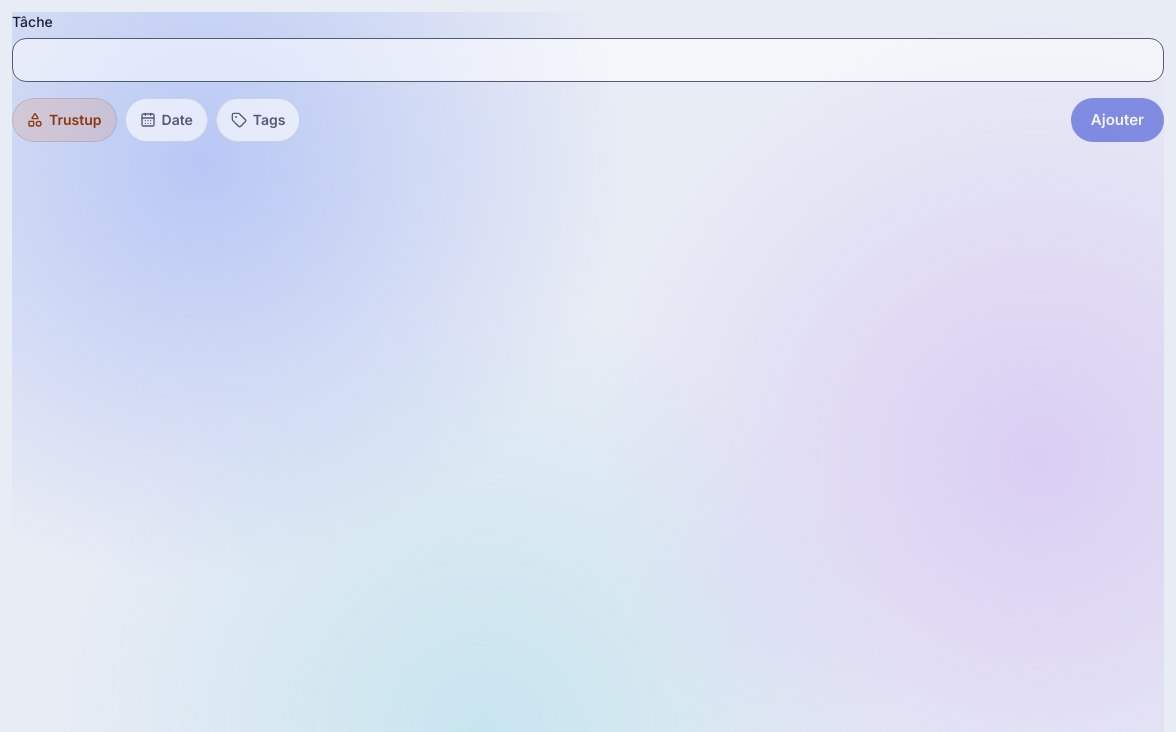
Test: ajout rapide : formulaire tâche › panne (appel rejeté) : saisie conservée, message générique
Type "Relancer le devis" into the field labelled "Tâche" at (588, 60), box [12,38,1164,82]
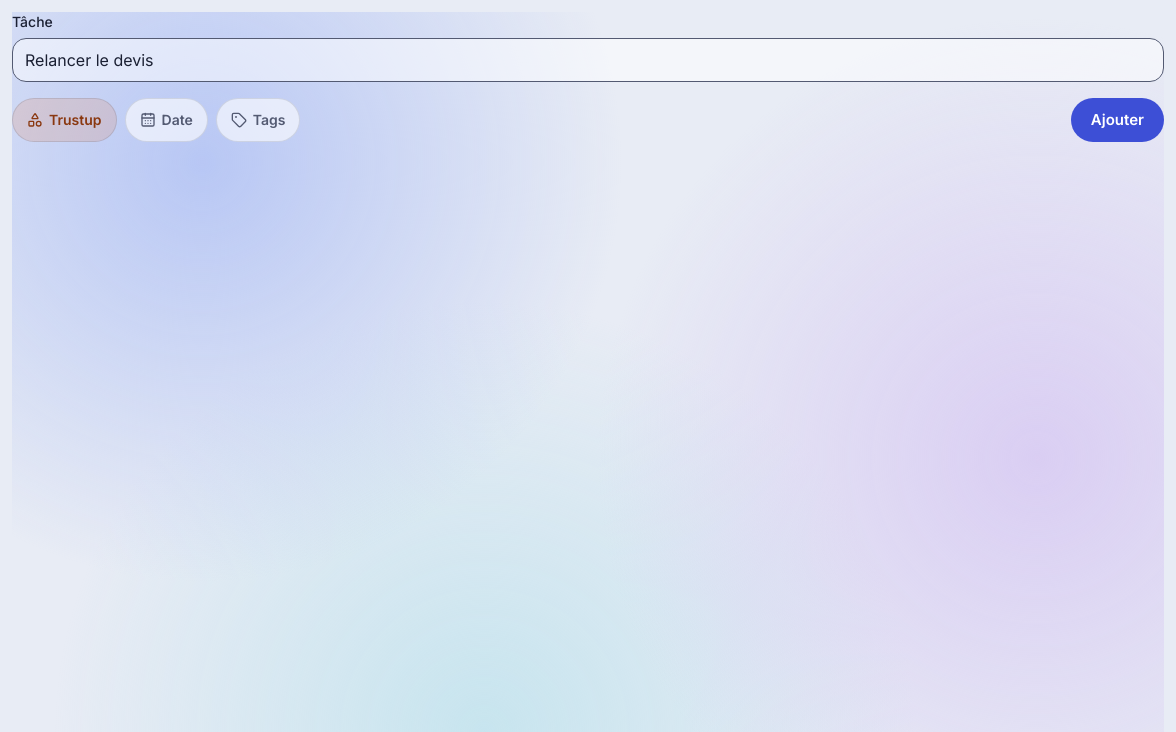
Click the button "Ajouter" at (1117, 120), box [1071,98,1164,142]
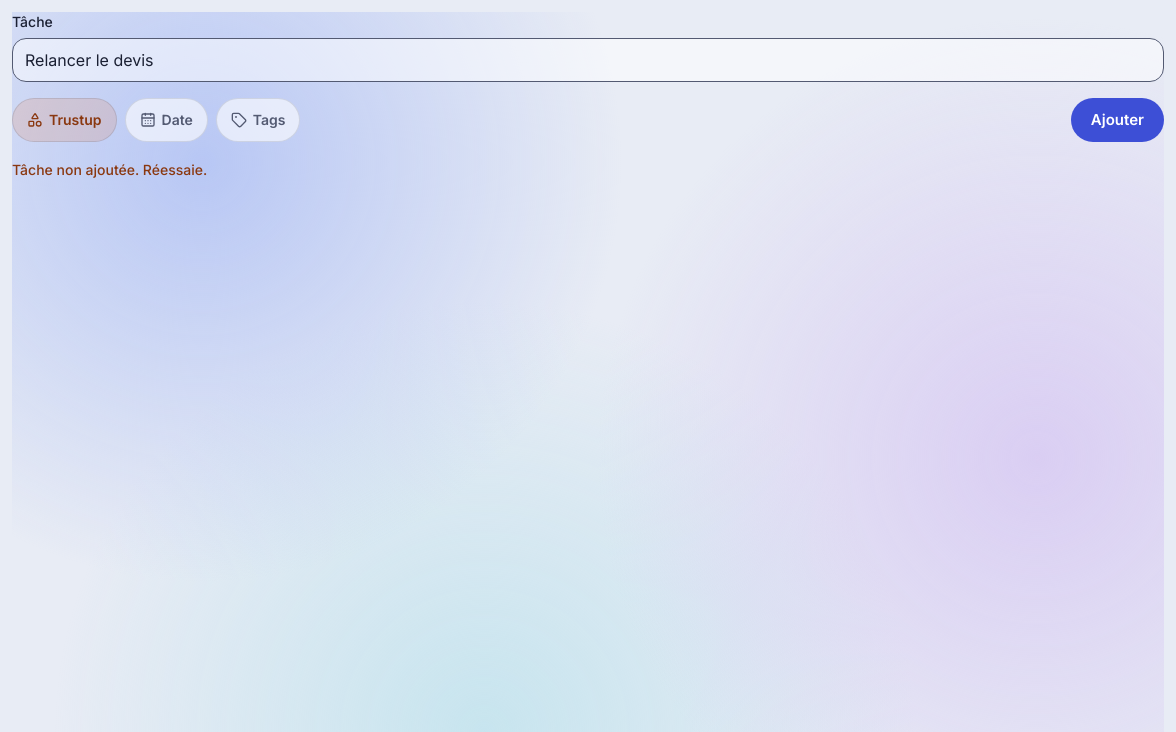
Now the message with test id "quick-add-status" reads "Tâche non ajoutée. Réessaie.", box [12,161,207,178]
